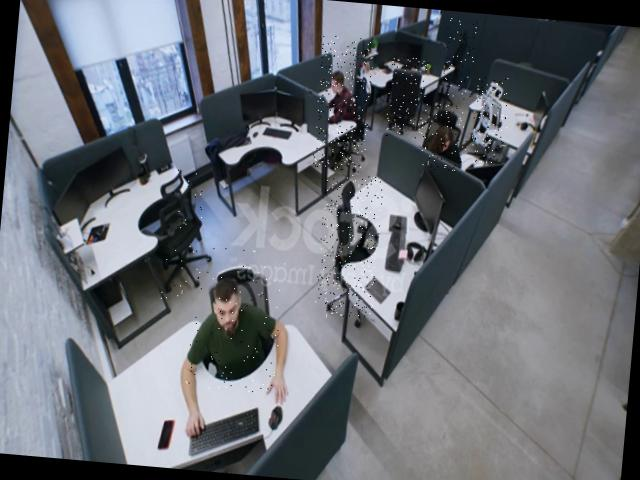empty chair: (313, 172, 384, 320), (156, 166, 207, 302), (384, 55, 428, 138), (470, 76, 510, 164), (439, 18, 477, 102)
occupiedchair: (182, 245, 286, 397), (312, 35, 374, 172), (418, 101, 470, 172)
